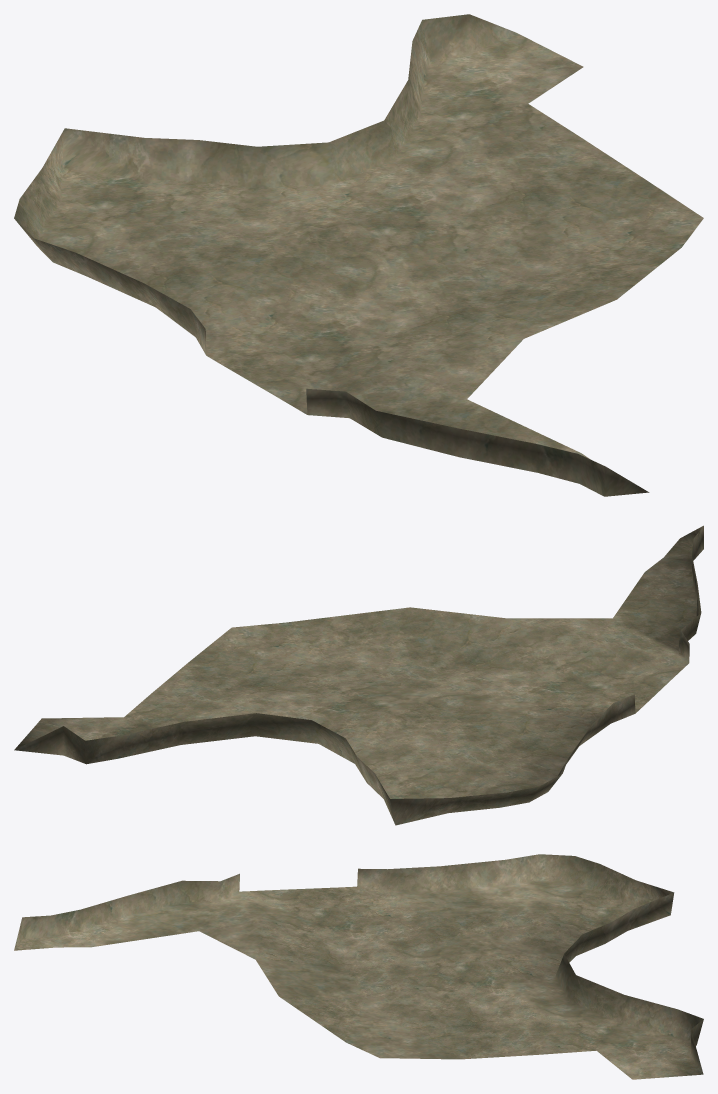
File: EKH_CAVERNS_PS_CA_OBJECT29.fbx
3 views of the same model, one above another, from view 1: azimuth 30°, elevation 25°; view 2: azimuth 150°, elevation 25°; view 3: azimuth 270°, elevation 25° (orthographic). The views are drawn at different scales.
Visible parts, largest first — view 1: EKH_CAVERNS_PS_CA_OBJECT29; view 2: EKH_CAVERNS_PS_CA_OBJECT29; view 3: EKH_CAVERNS_PS_CA_OBJECT29.
Boxes of the visible parts, x1,y1,x2,y2 form: EKH_CAVERNS_PS_CA_OBJECT29: [14, 14, 703, 496]; EKH_CAVERNS_PS_CA_OBJECT29: [14, 525, 703, 825]; EKH_CAVERNS_PS_CA_OBJECT29: [14, 854, 703, 1079].
Size of the model in its own units: 109642 by 7519 by 155236.
Materials: 1 (1 with a texture image).
